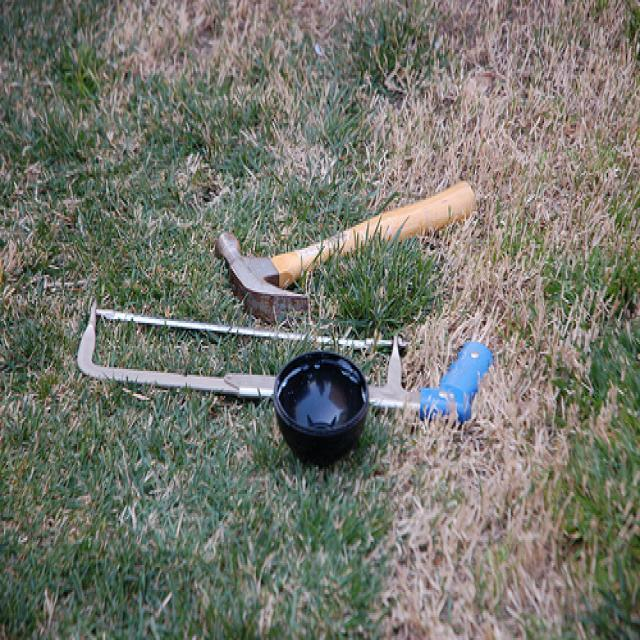hammer: (206, 154, 492, 328)
